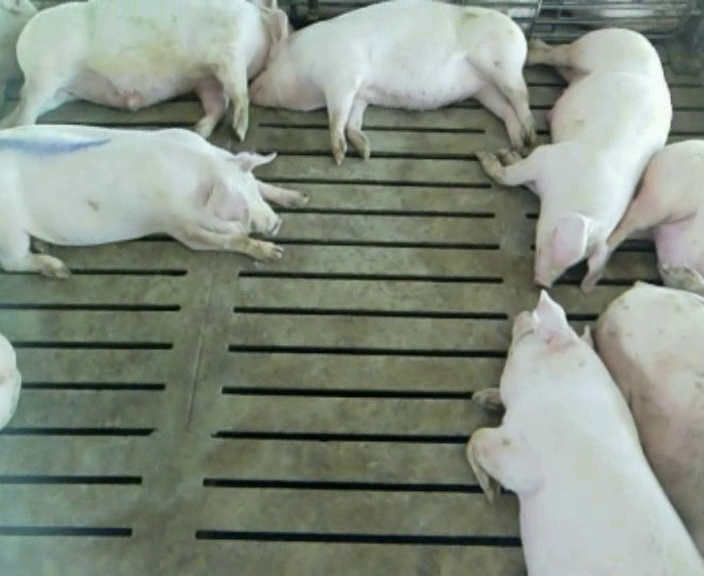pig: (467, 290, 703, 573), (478, 29, 671, 292), (250, 2, 534, 164), (0, 2, 269, 139), (594, 282, 703, 555), (608, 140, 703, 294)
